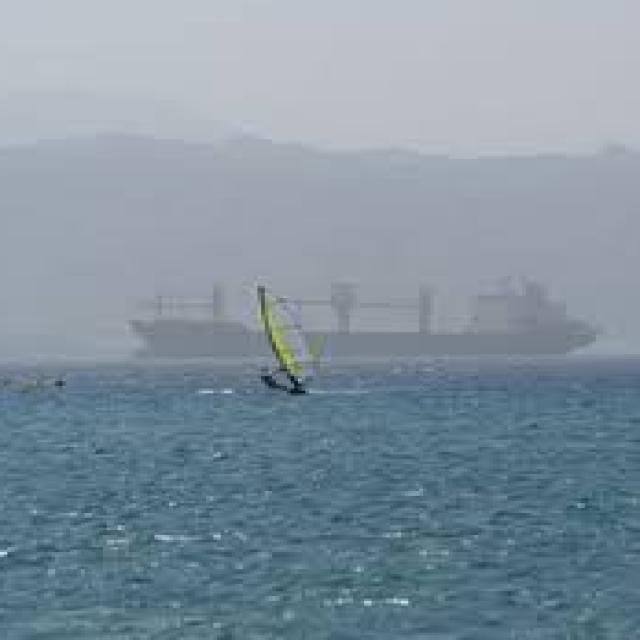cargoship: (118, 270, 605, 361), (238, 282, 334, 398)
